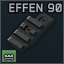FN P90 EFFEN 90 receiver rail: (0, 0, 64, 64)
